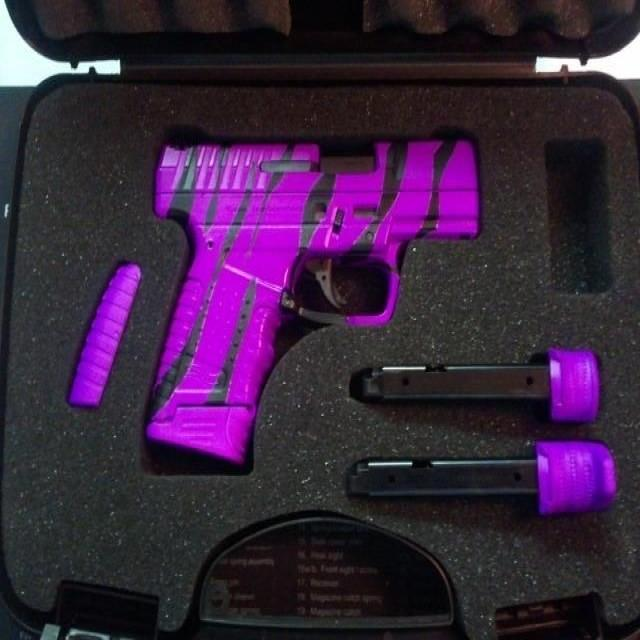HandGun: (141, 128, 481, 479)
